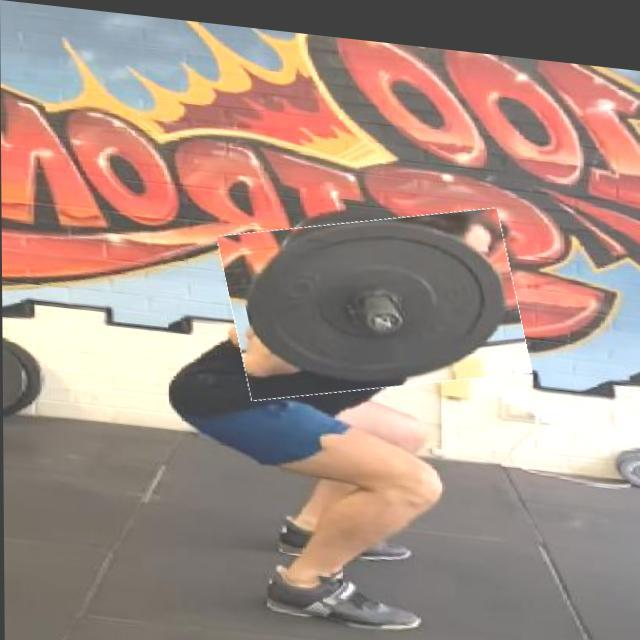barbell: (224, 187, 526, 406)
